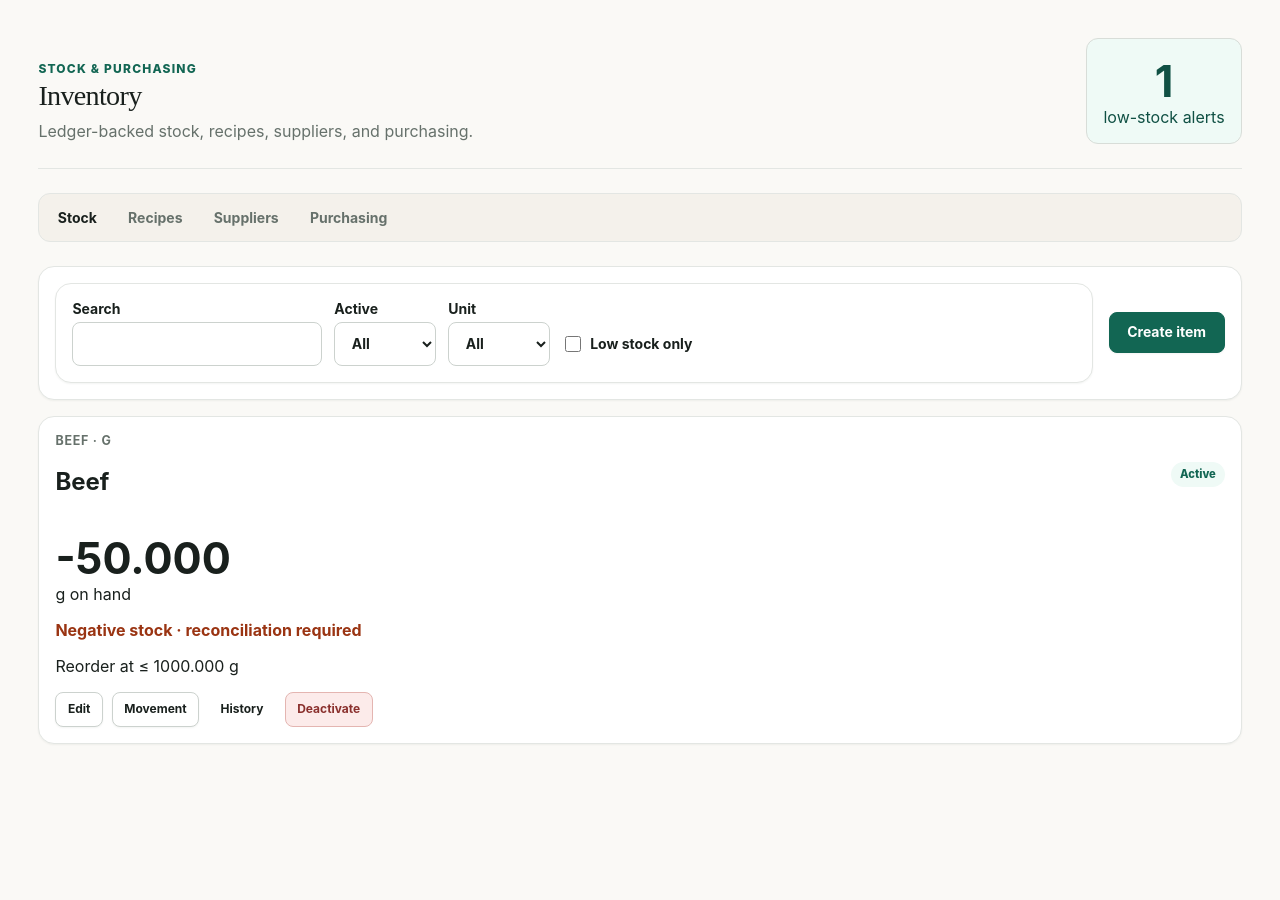
inventory page › makes negative and low stock explicit and renders immutable local-time history
The width and height of the screenshot is (1280, 900).
Expected: the heading "Beef" is shown, [55, 468, 112, 496]
Expected: the text "Negative stock · reconciliation required" is shown, [55, 620, 362, 640]
Click the button "Edit": [79, 710] box [55, 692, 103, 727]
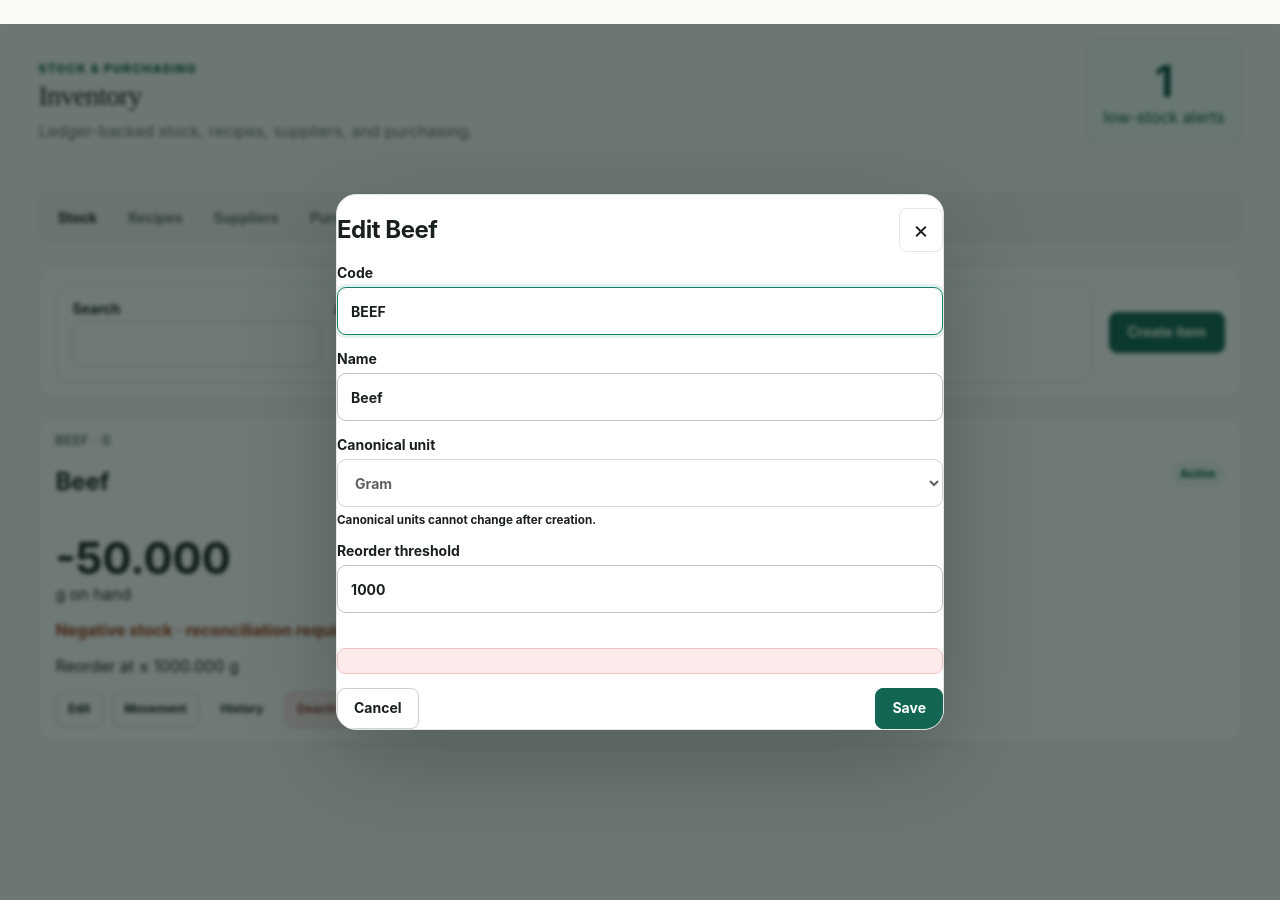
Result: the dropdown labelled "Canonical unit" is disabled at [337, 459, 943, 507]
Result: the text "Canonical units cannot change after creation." is shown at [337, 513, 596, 527]
Click the button named "Close dialog": [921, 230] box [899, 208, 943, 252]
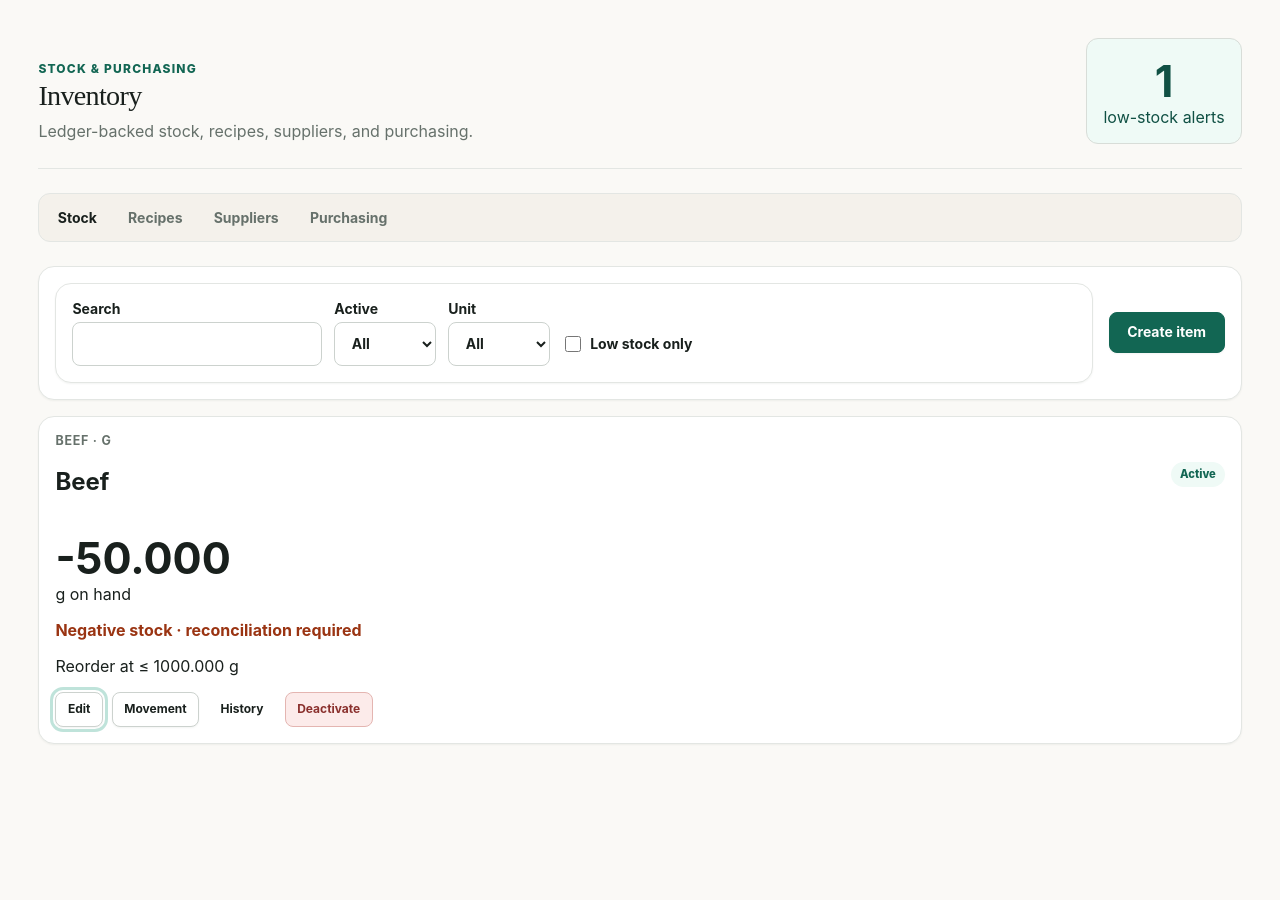
Click the button "History": [242, 710] box [208, 692, 276, 727]
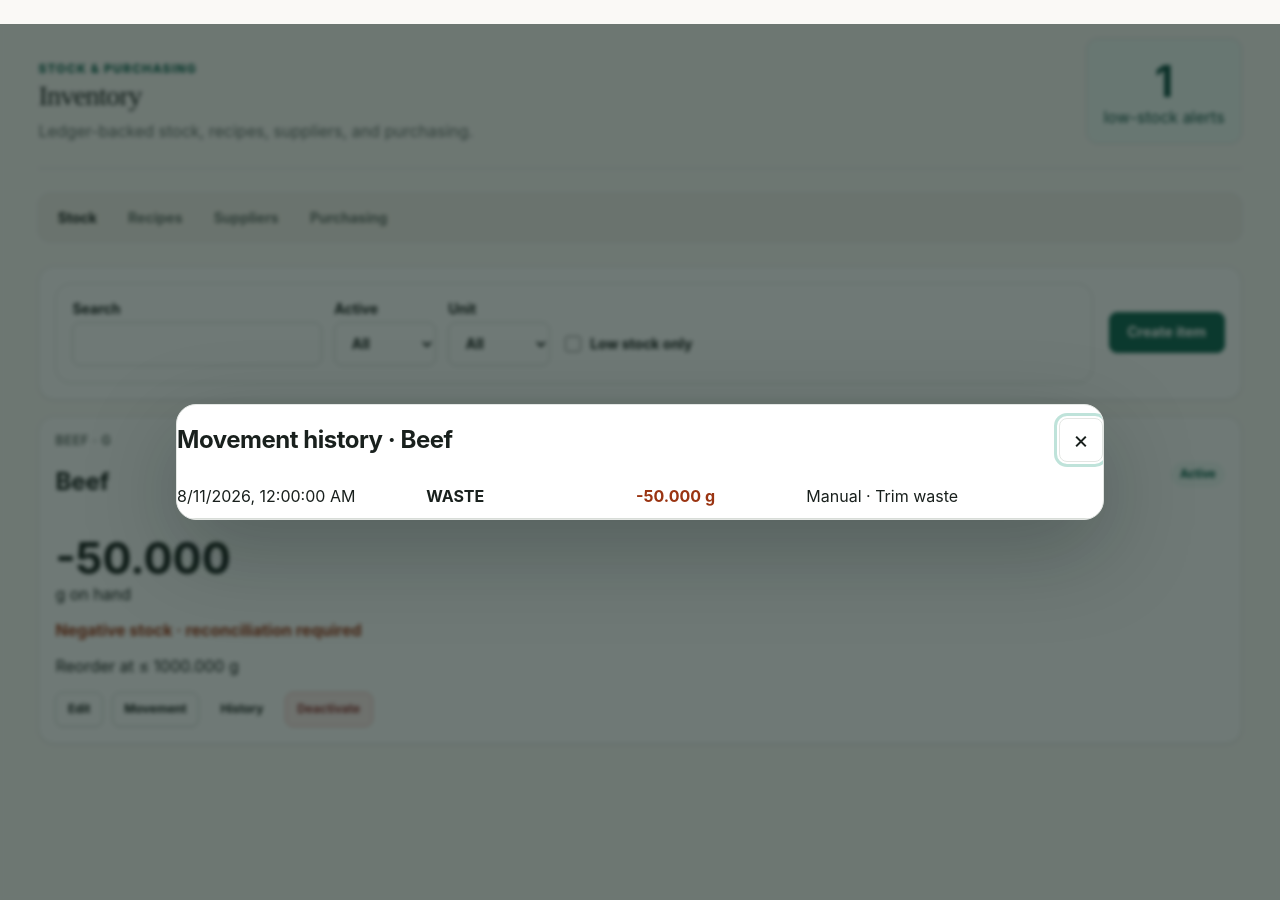
Result: the text "WASTE" is shown at [426, 486, 484, 506]
Result: the text "Manual · Trim waste" is shown at [806, 486, 958, 506]
